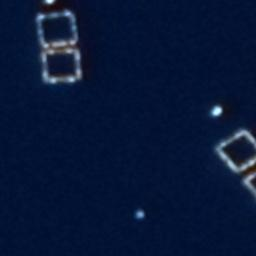square_solid: (214, 127, 256, 177), (34, 8, 80, 50), (38, 45, 85, 86)
